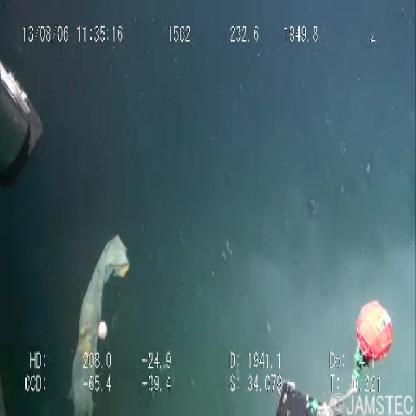Rov: (272, 285, 389, 416)
Rác: (58, 222, 135, 416), (1, 42, 56, 188)
